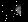person: (11, 5, 21, 18)
